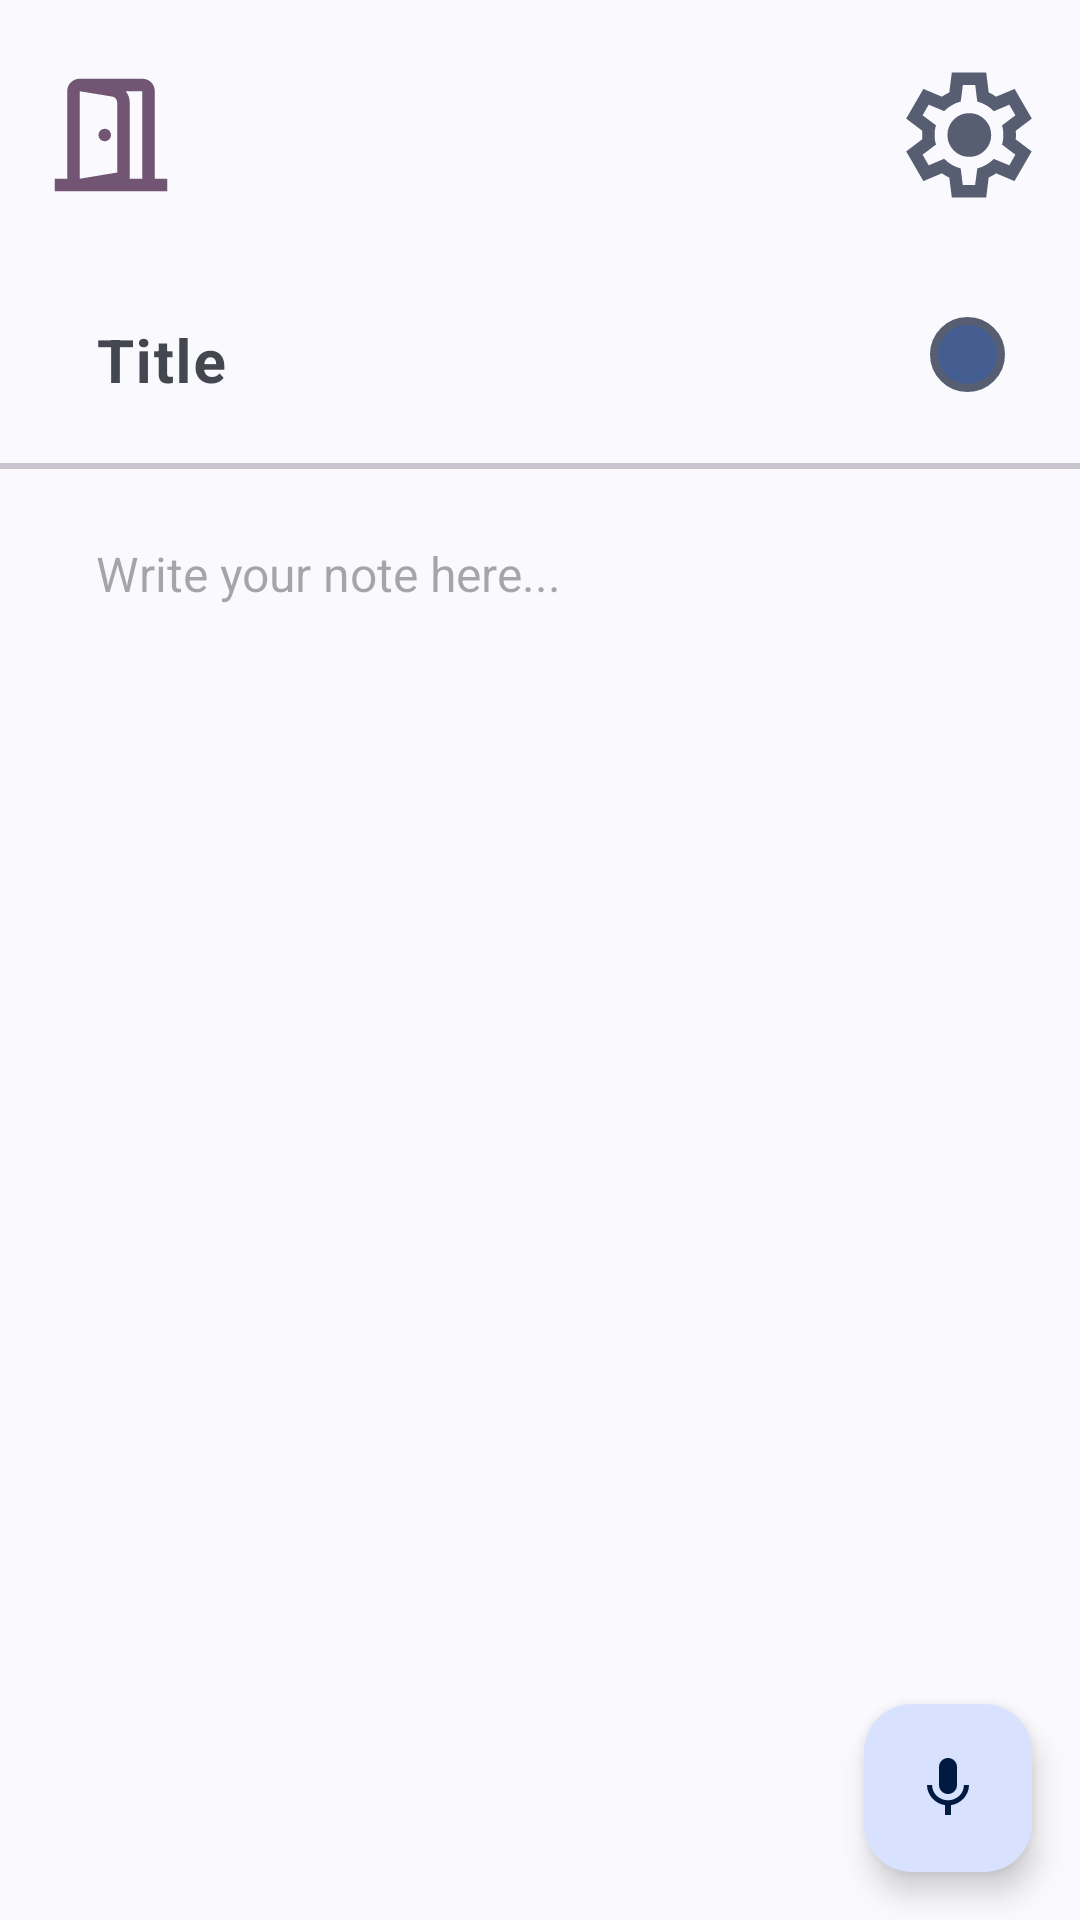

Locate icon controls on the screen. Image size 1080 × 1920, boxes as [x1,y1,x2,y2].
door open: [54,78,168,192]
settings: [906,72,1032,198]
Speech to text: [864,1704,1032,1872]
